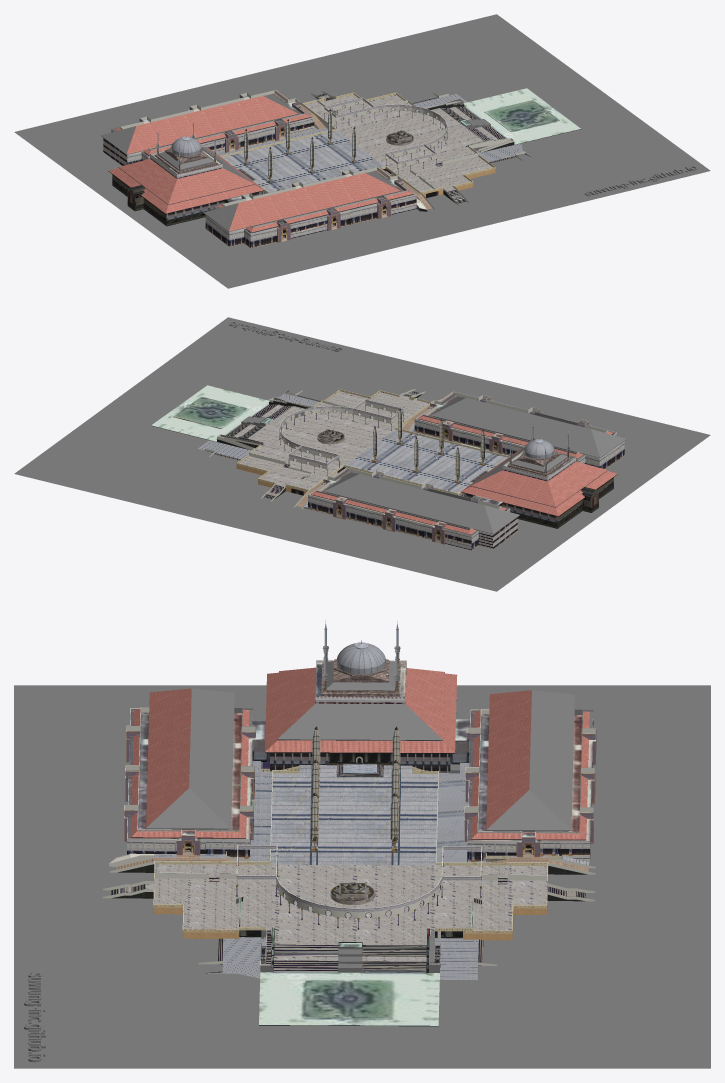
Rendered from fixx.gltf.
3 views of the same model, one above another, from view 1: azimuth 30°, elevation 25°; view 2: azimuth 150°, elevation 25°; view 3: azimuth 270°, elevation 25° (orthographic). The views are drawn at different scales.
Visible parts, largest first — view 1: root, suwung-inc.githu; view 2: root, suwung-inc.githu; view 3: root, suwung-inc.githu.
Boxes of the visible parts, box(x1,y1,x2,y2) form: root: box(14, 14, 710, 288); suwung-inc.githu: box(584, 166, 696, 196); root: box(14, 317, 710, 591); suwung-inc.githu: box(229, 321, 342, 351); root: box(14, 640, 710, 1068); suwung-inc.githu: box(24, 972, 45, 1062).
Size of the model in its own units: 181 by 23.54 by 139.
Materials: 41 (40 with a texture image).
